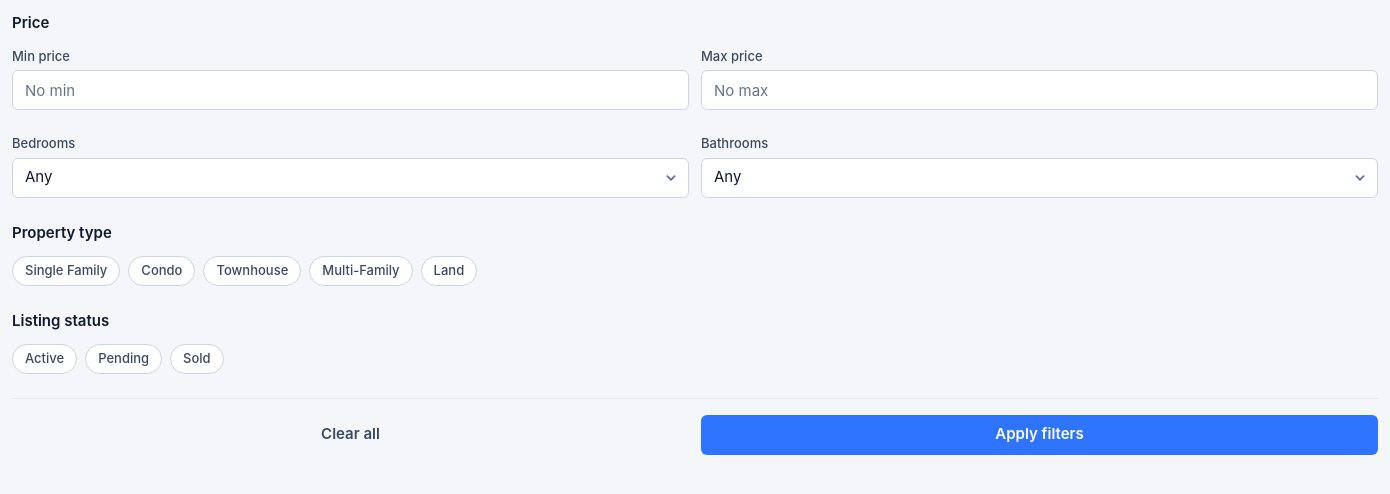
Test: FilterPanel › validates that max price is not below min price
This screenshot has width=1390, height=494.
In the number field labelled "Min price": (350, 90) x1=12 y1=70 x2=689 y2=110, type "500000"
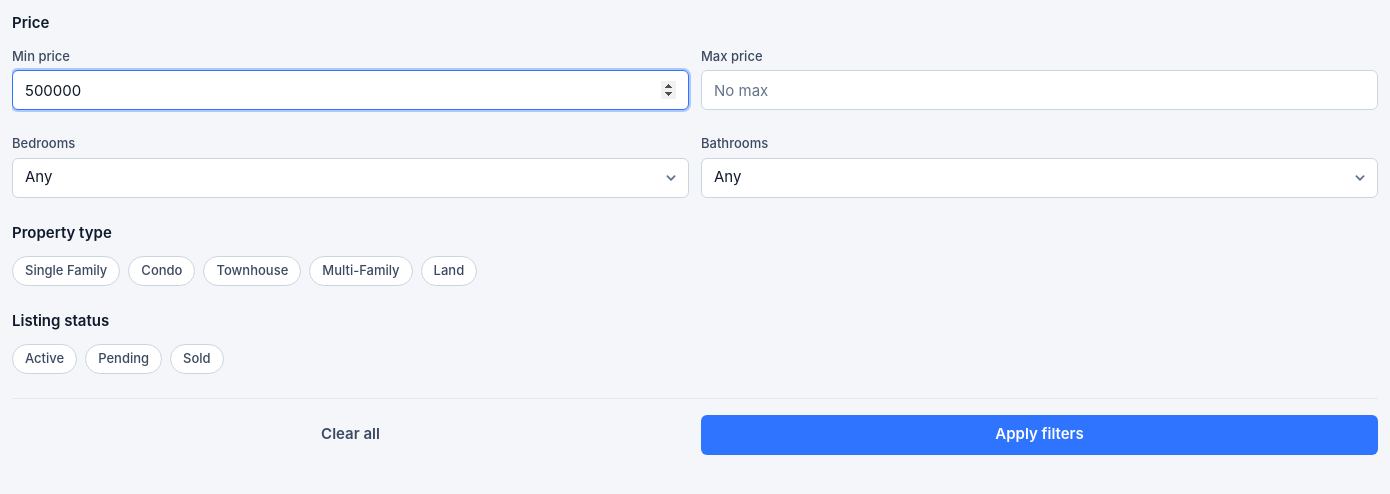
In the number field labelled "Max price": (1040, 90) x1=701 y1=70 x2=1378 y2=110, type "100000"
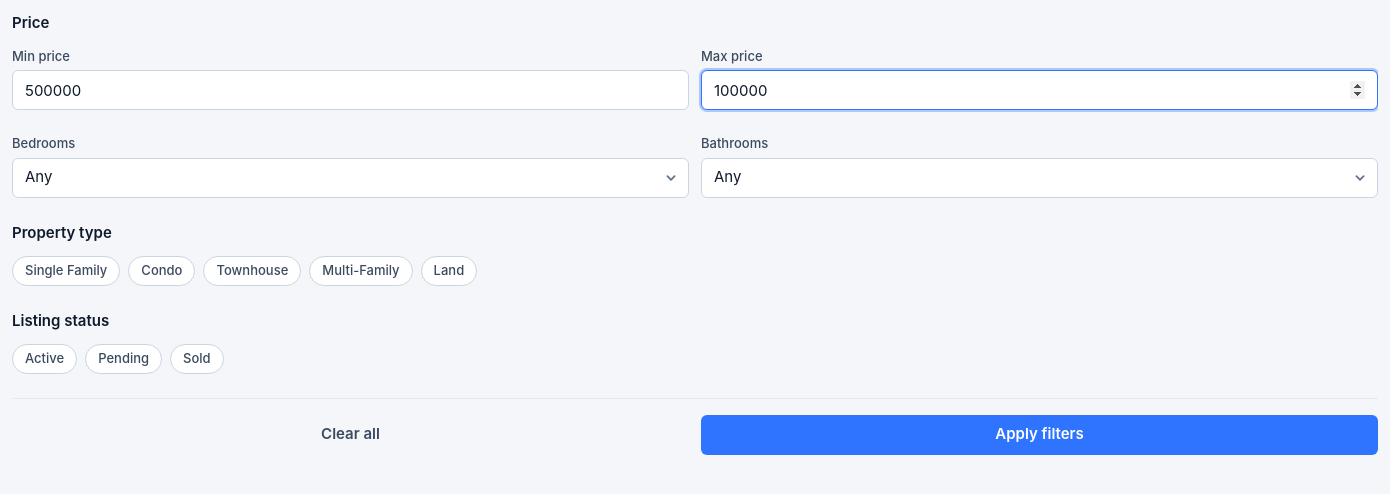
Click the button "Apply filters": (1040, 434) x1=701 y1=414 x2=1378 y2=454
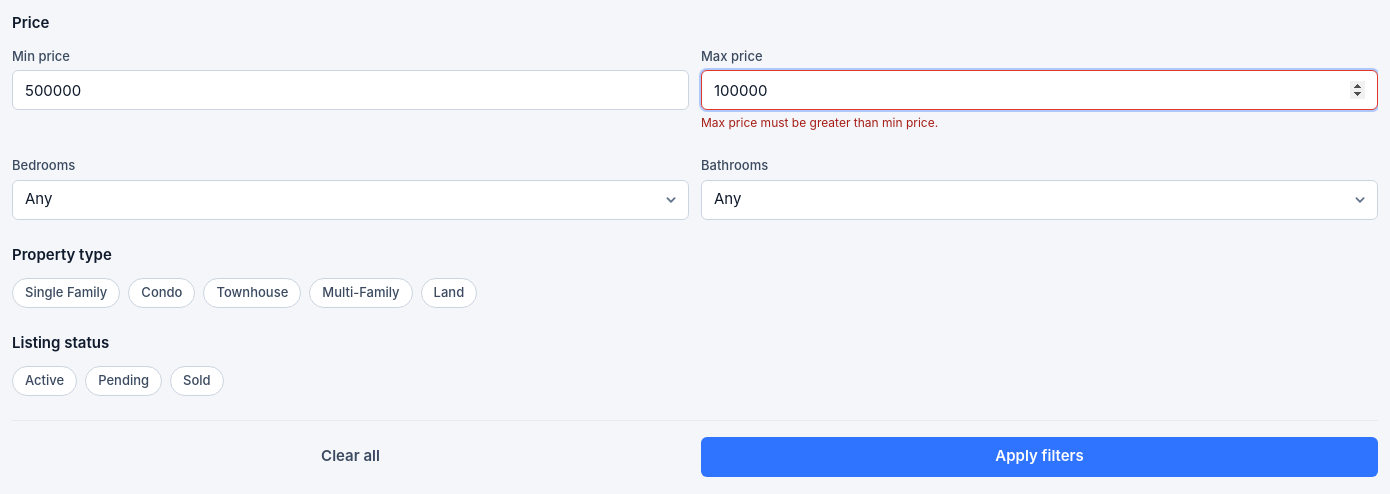
Check: the message reads "Max price must be greater than min price.", box x1=701 y1=115 x2=938 y2=130
